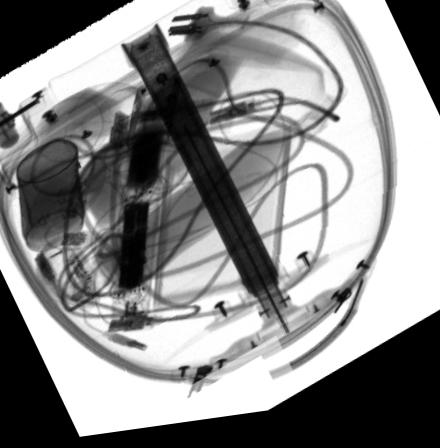Baton: (107, 89, 178, 337)
